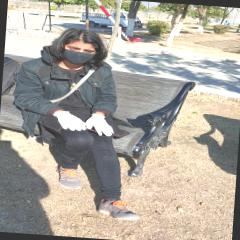gloved: (54, 111, 88, 132), (86, 114, 116, 137)
